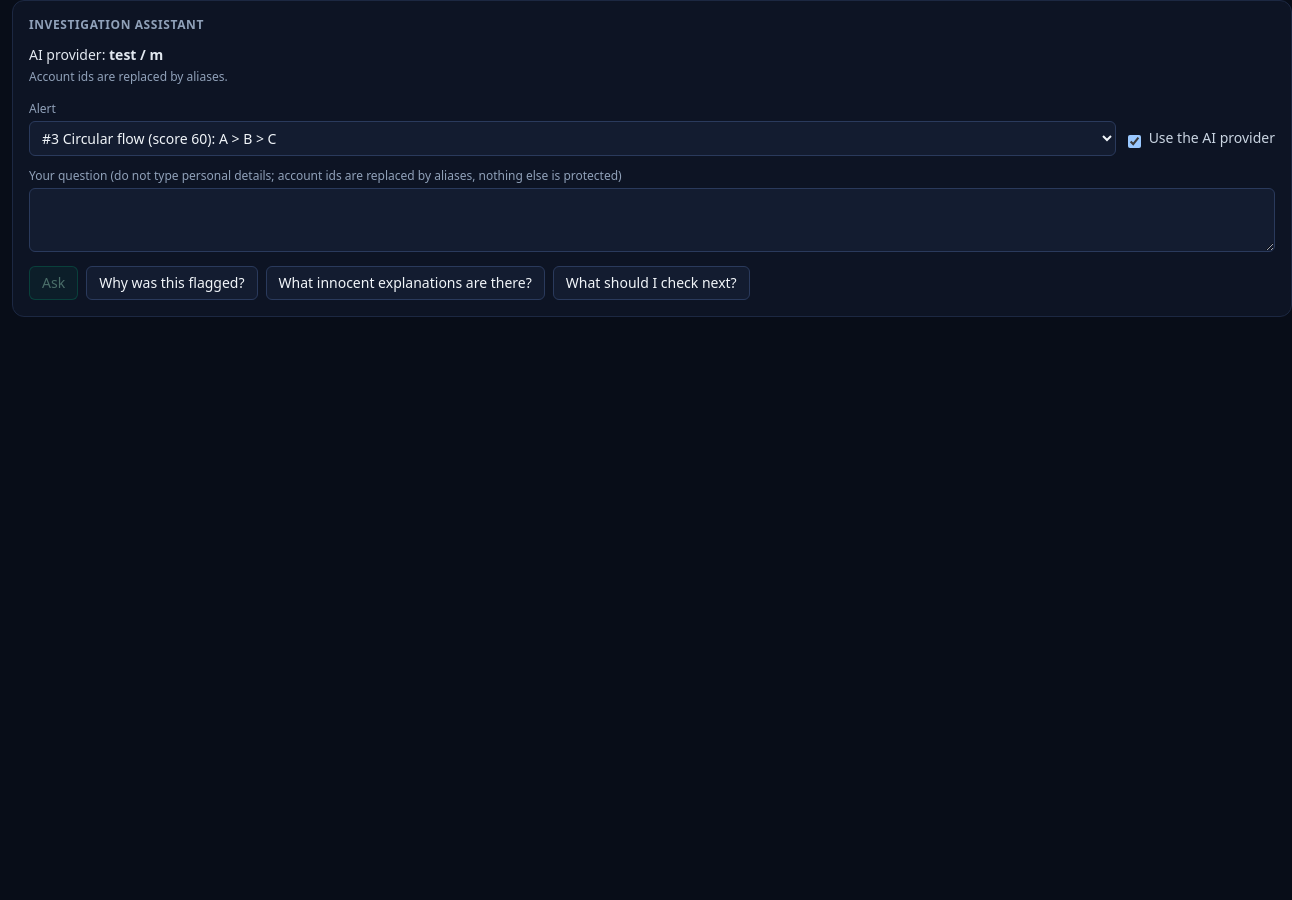
Test case: Assistant view › labels AI output as AI, shows warnings, and offers the AI switch only when a provider exists
This screenshot has width=1292, height=900.
Expected: the checkbox labelled "Use the AI provider" is enabled, [1128,135,1141,148]
Click the button "What should I check next?" at (651, 283), box [553,266,750,300]
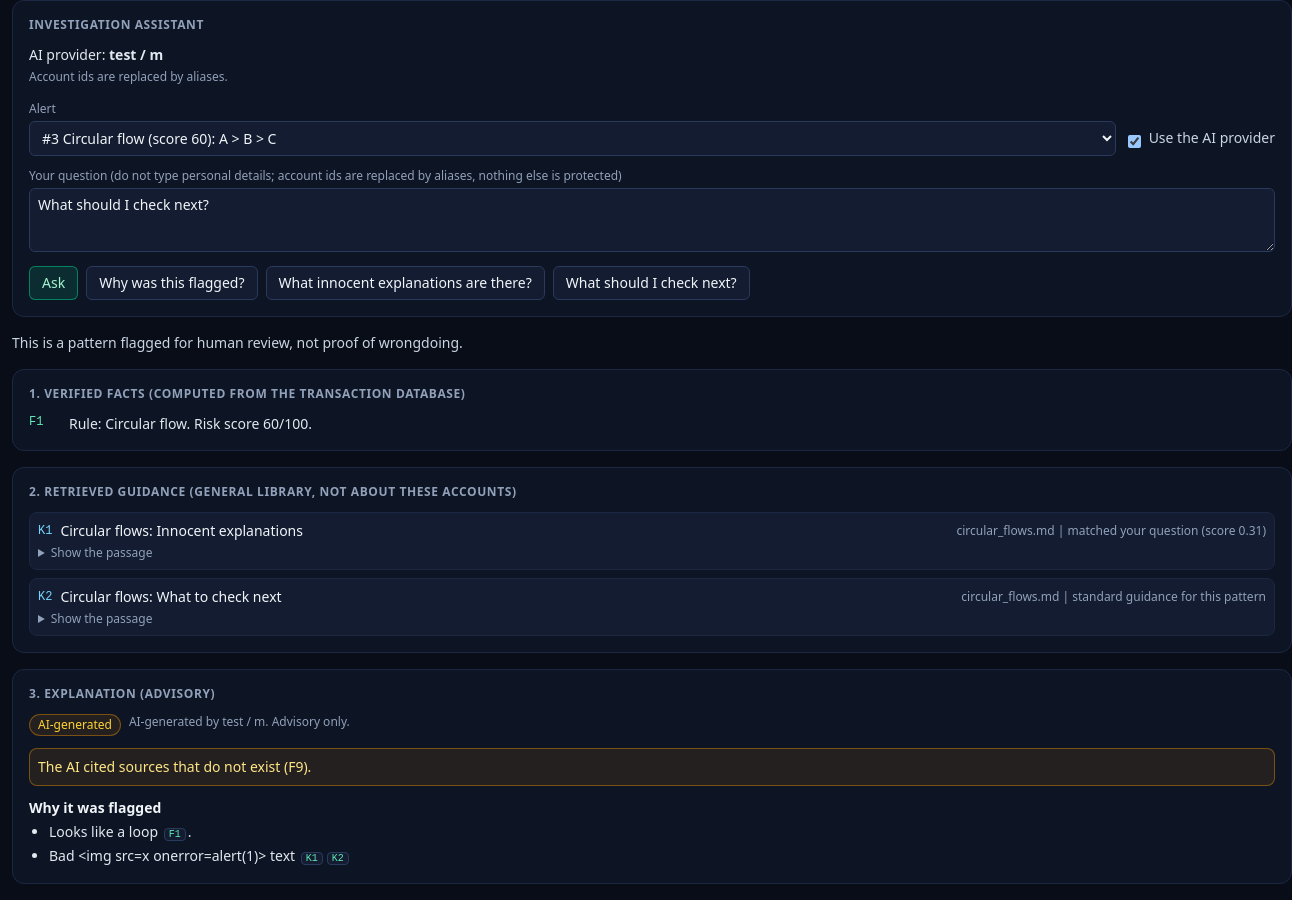
Expected: the text "AI-generated" is shown, [29,714,121,736]
Expected: the list item "The AI cited sources that do not exist (F9)." is shown, [38,757,311,776]
